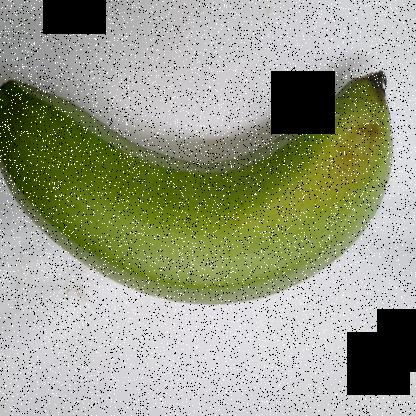freshunripe: (0, 56, 405, 308)
